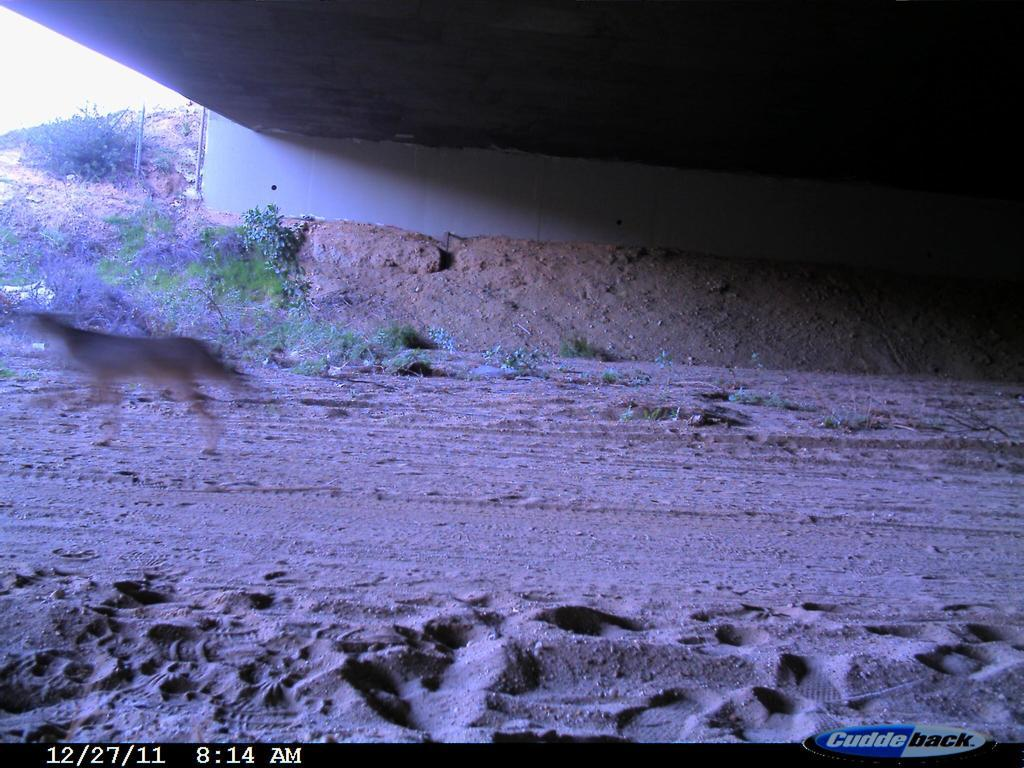coyote: (11, 268, 260, 478)
